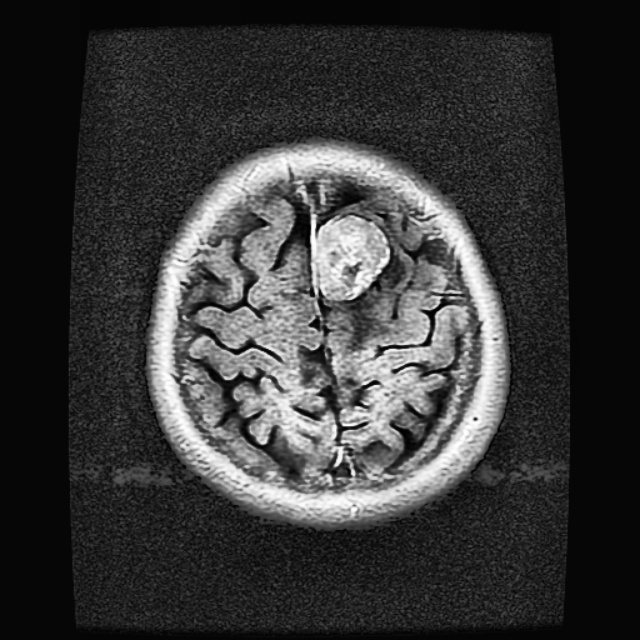Glioma: (318, 214, 385, 295)
